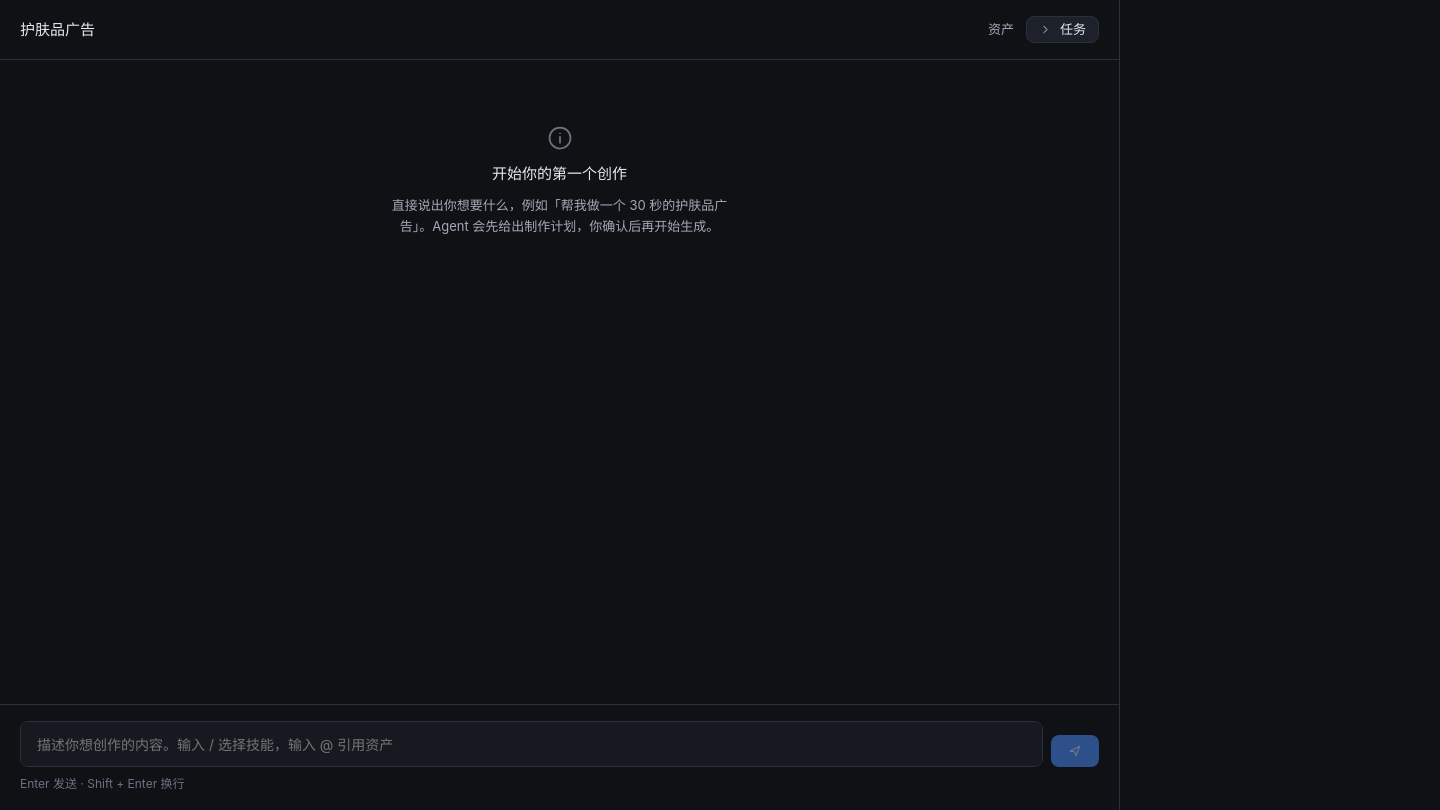
Test: 窄屏布局 › 抽屉可以从内部关闭，关闭后任务面板不再留在文档里
Click the button "任务": point(1062, 29) [1026,16,1099,43]
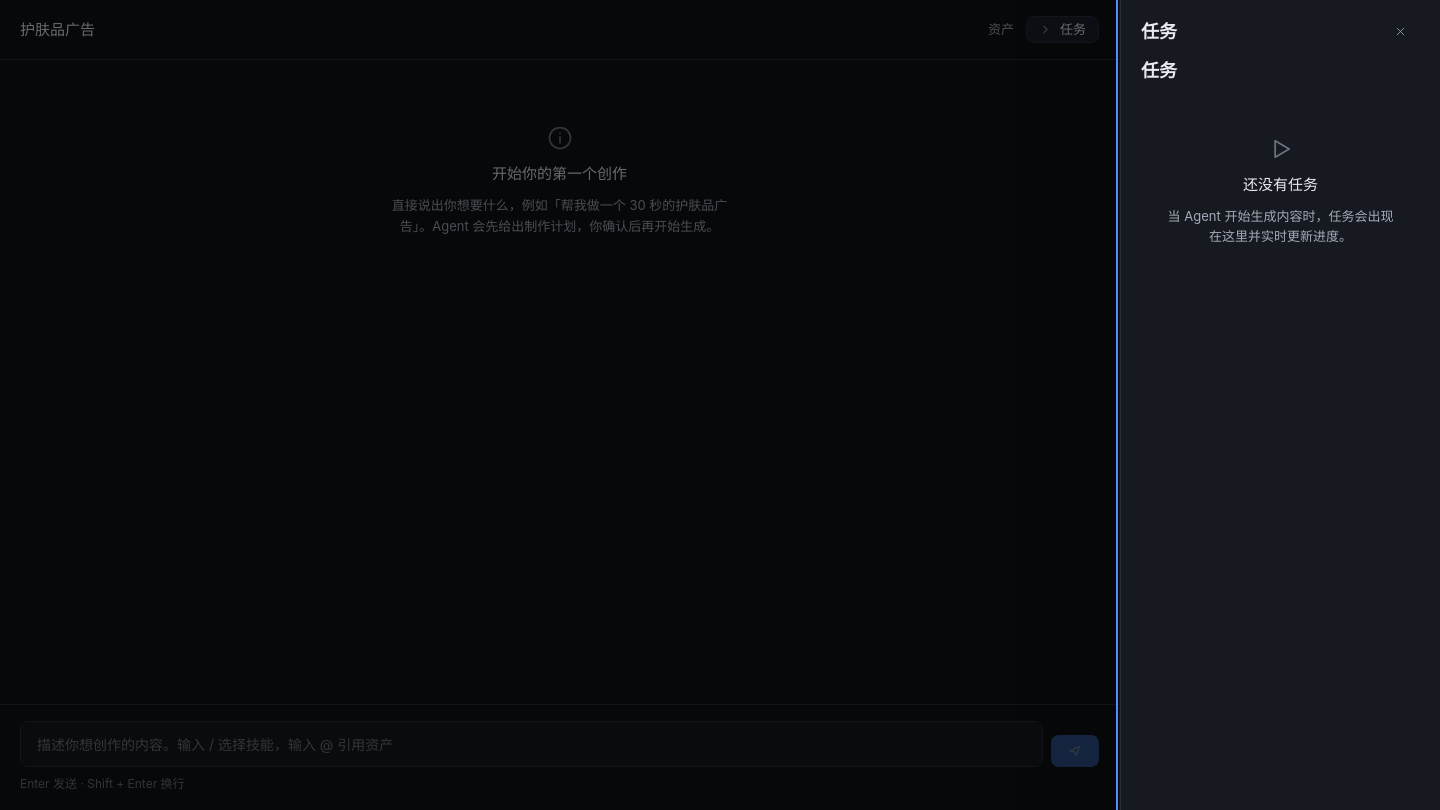
expect the dialog "任务" is shown: met, box [1120,0,1439,809]
Click the button named "关闭": point(1400, 32) [1381,20,1420,43]
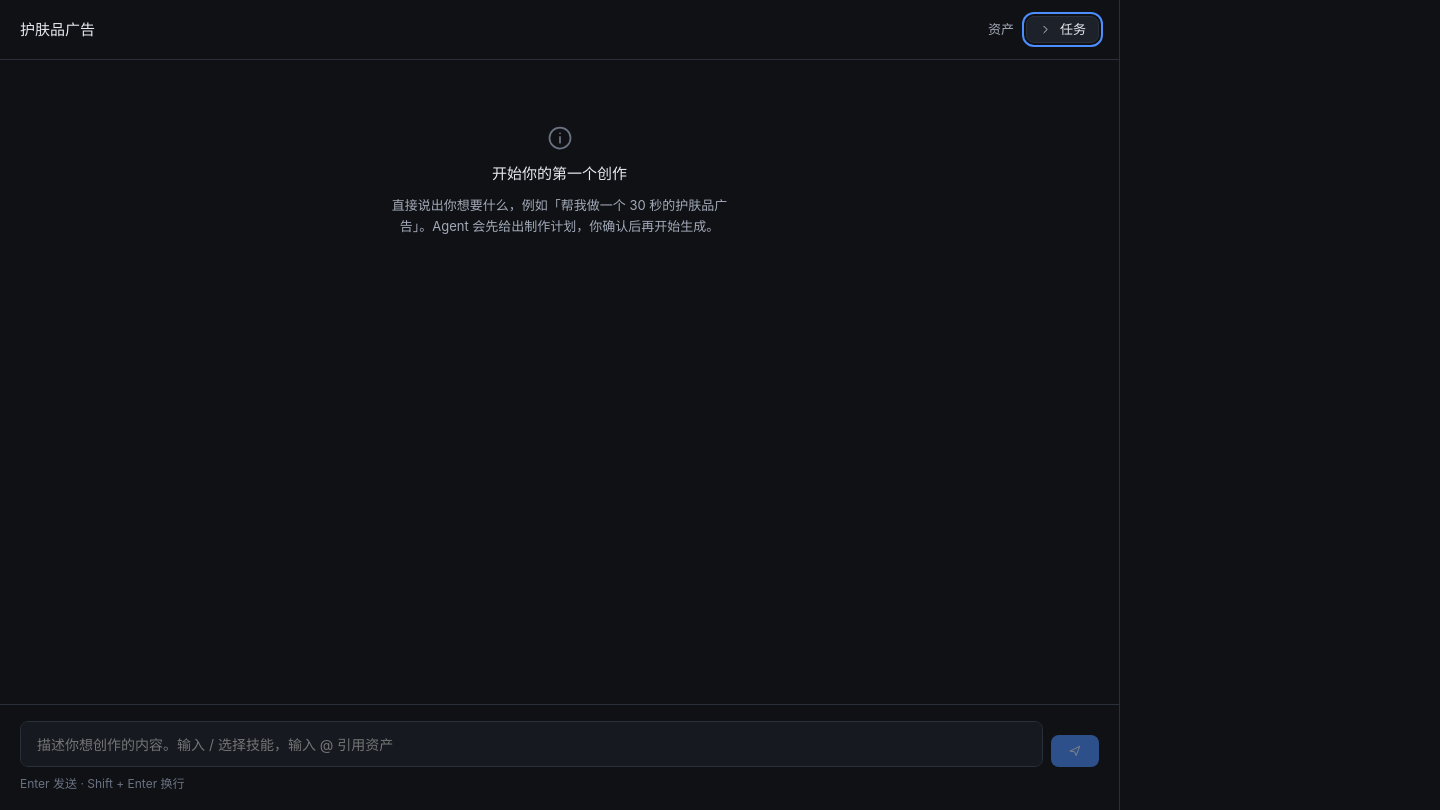
expect the heading "还没有任务" is gone: met
